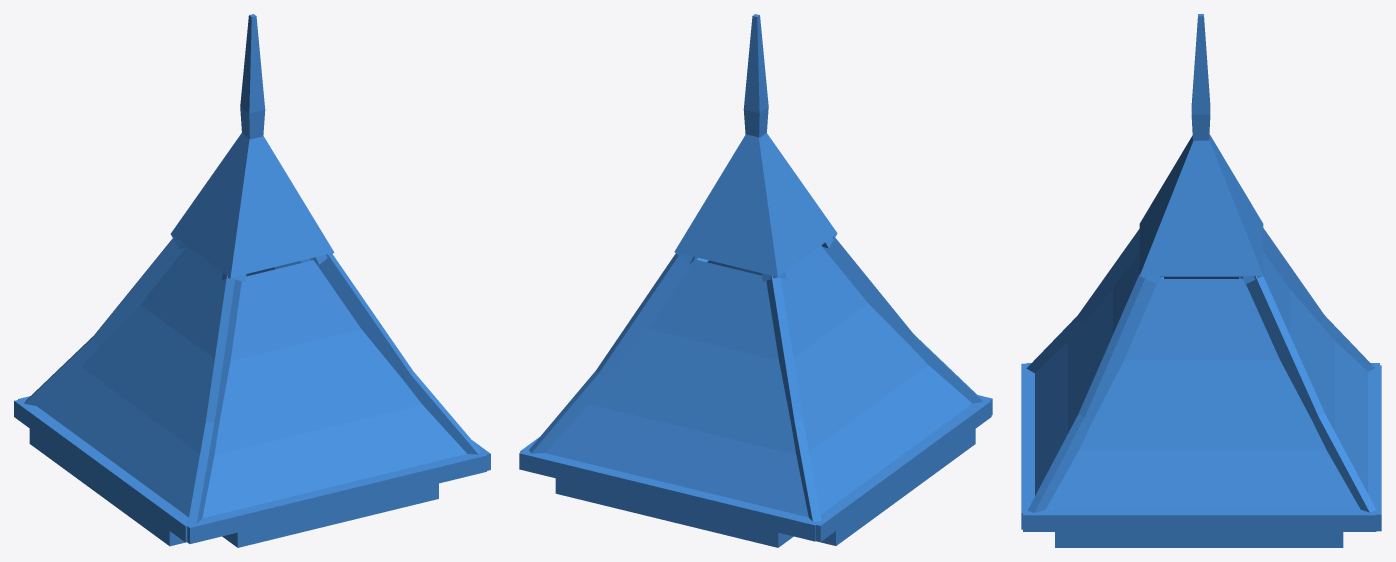
File: Collision_Roof_Tower_FlatTiles.fbx
3 renders of one model, left to right at view 1: azimuth 30°, elevation 25°; view 2: azimuth 150°, elevation 25°; view 3: azimuth 270°, elevation 25°, orthographic. The views are drawn at different scales.
Visible parts, largest first — view 1: UCX_Roof_Tower_FlatTiles_01; view 2: UCX_Roof_Tower_FlatTiles_01; view 3: UCX_Roof_Tower_FlatTiles_01.
Part boxes in pixels (x1,y1,x2,y2): UCX_Roof_Tower_FlatTiles_01: (14,14,490,547); UCX_Roof_Tower_FlatTiles_01: (519,14,992,547); UCX_Roof_Tower_FlatTiles_01: (1021,14,1381,547).
Bounding box in the file's own units: 528 × 738 × 528.
